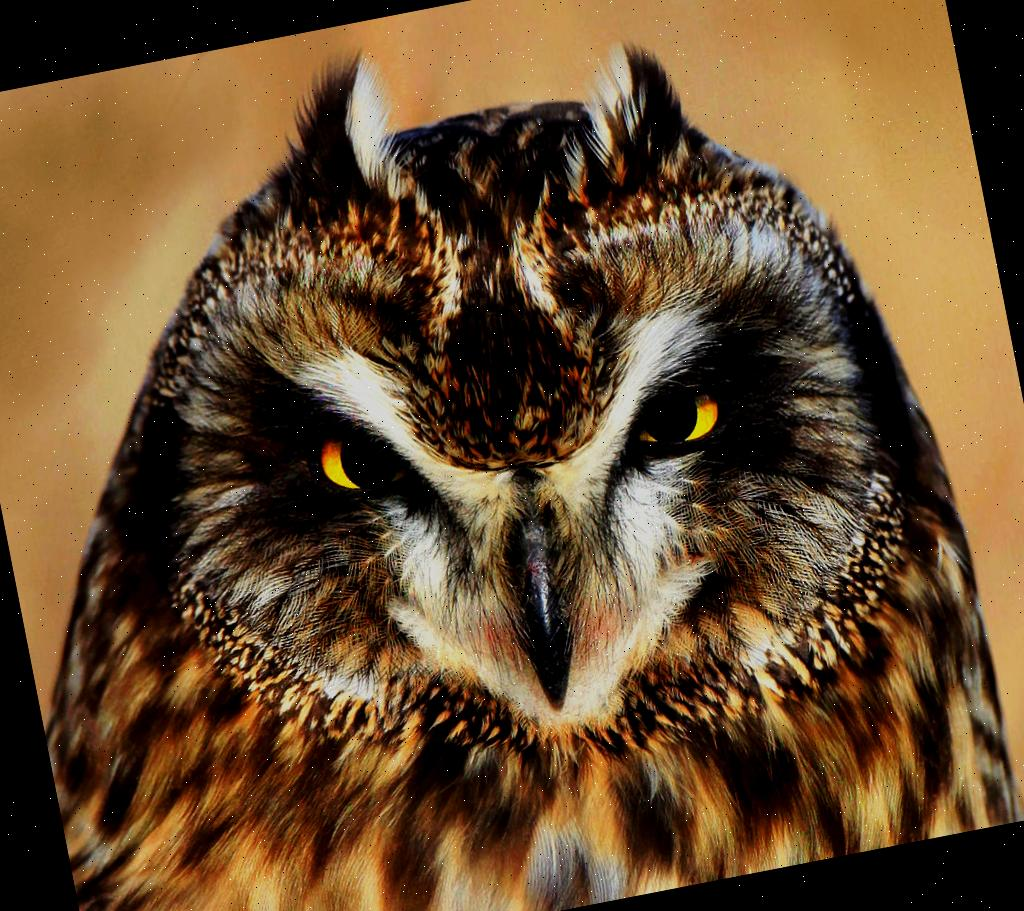Owl: (0, 0, 1017, 911)
